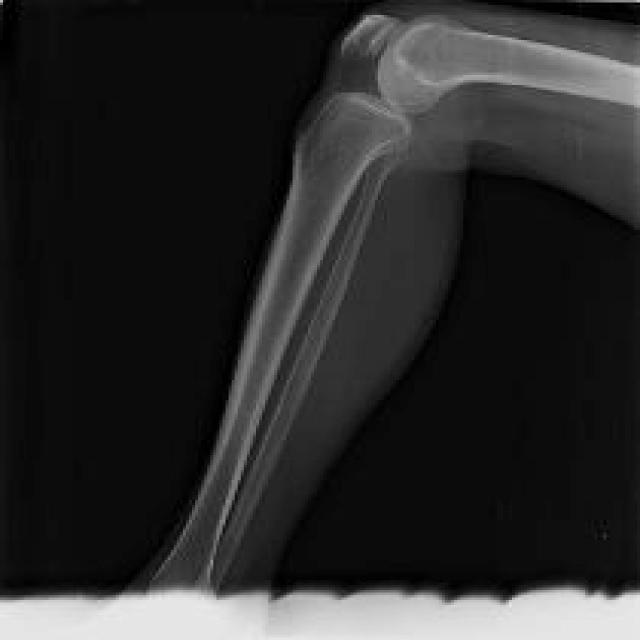normal: (148, 94, 409, 593), (215, 145, 412, 592), (380, 19, 639, 112)
